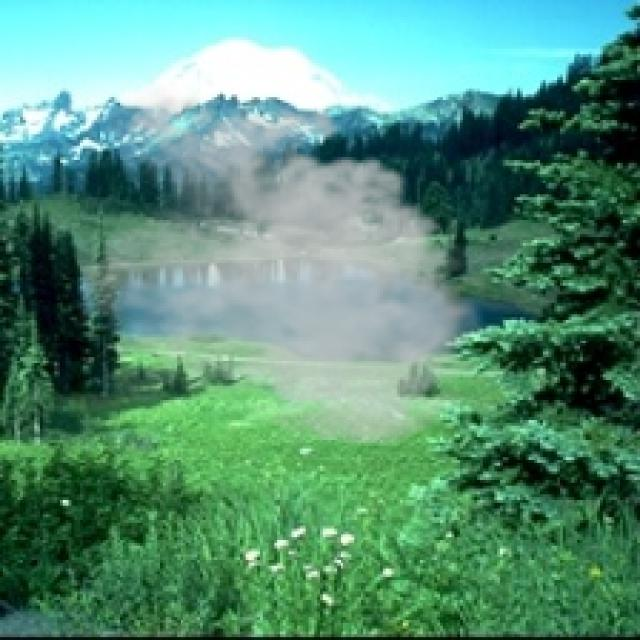smoke: (77, 83, 497, 454)
